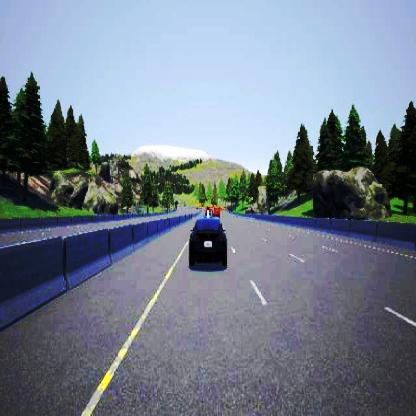vehicle: (189, 206, 226, 265)
